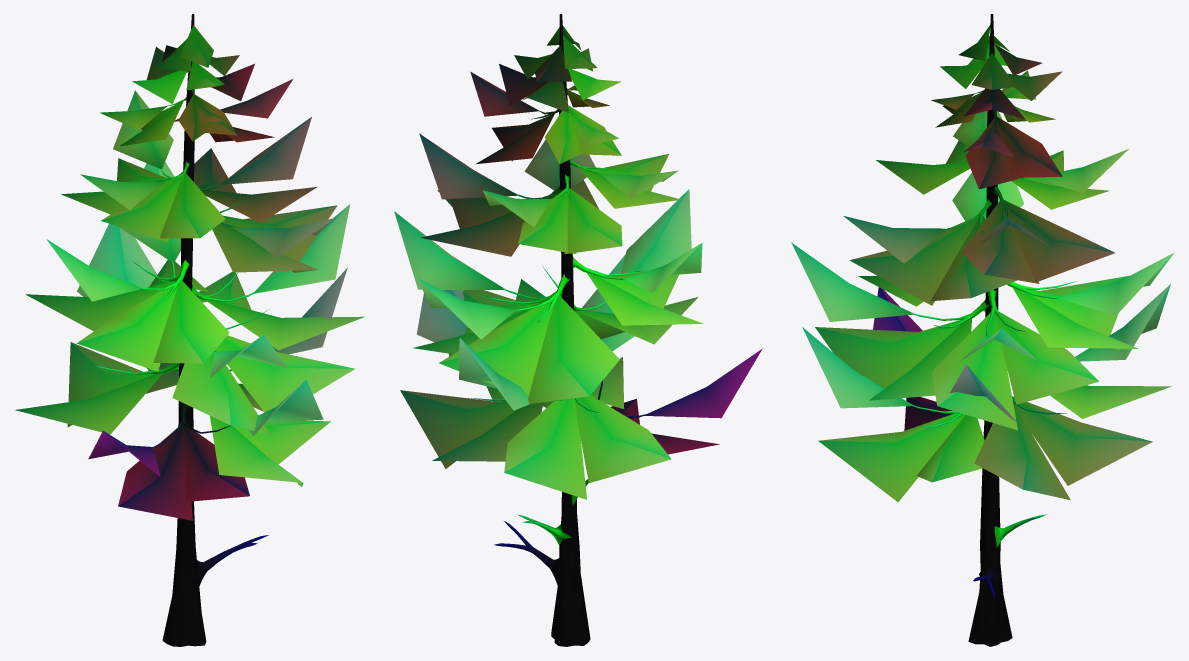
Rendered from Pine03.fbx.
The picture shows the model from 3 angles, left to right: view 1: azimuth 30°, elevation 25°; view 2: azimuth 150°, elevation 25°; view 3: azimuth 270°, elevation 25°; orthographic projection.
Visible parts, largest first — view 1: Pine03; view 2: Pine03; view 3: Pine03.
Part boxes in pixels (x1,y1,x2,y2): Pine03: (15,14,364,646); Pine03: (394,14,762,646); Pine03: (791,14,1174,646).
Bounding box in the file's own units: 362 × 700 × 388.
